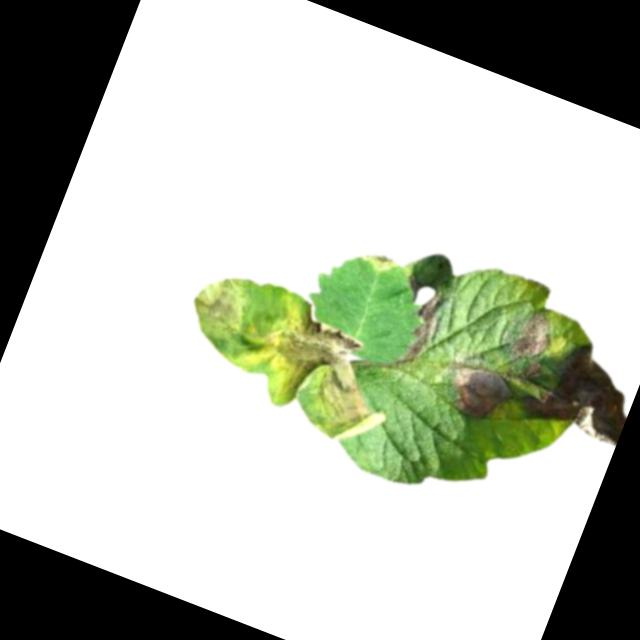Late_blight: (244, 296, 410, 438), (521, 326, 640, 447), (178, 261, 259, 351), (438, 353, 517, 428), (393, 285, 447, 374), (506, 302, 559, 366), (355, 241, 397, 273)
